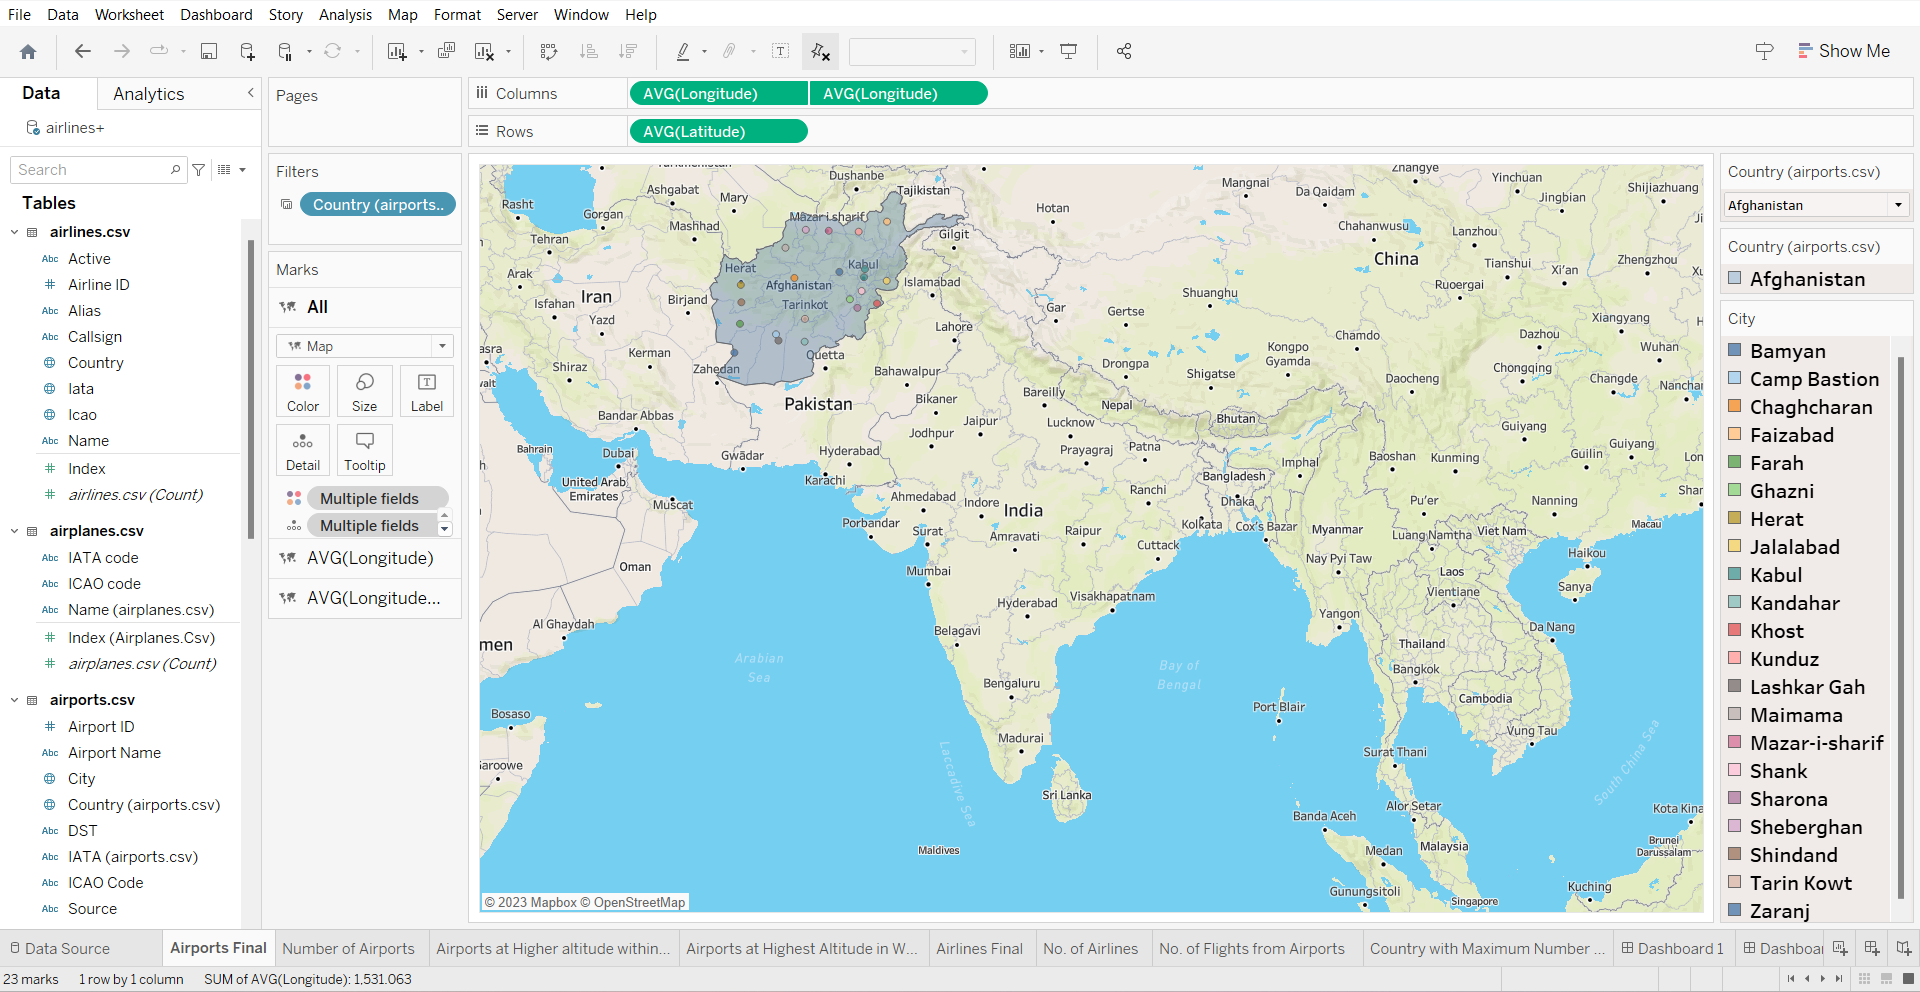

The page's visual inventory and layout, read from the dashboard file:
{"tool":"tableau","page":{"name":"Dashboard 1","canvas":[1000,1000],"units":"permille","ordinal":0},"visuals":[{"type":"worksheet","title":"Airports Final","mark":"Multipolygon","rows":["Latitude"],"cols":["Longitude","Longitude"],"box":[4.8,9.4,811.1,981.2]},{"type":"filter","title":"Airports Final","param":"[federated.07oa52r1fh44n819diecb16a7427].[none:Country (airports.csv):nk]","box":[815.9,9.4,179.2,124.6]},{"type":"legend","title":"Airports Final","param":"[federated.07oa52r1fh44n819diecb16a7427].[none:City:nk]","box":[815.9,134,179.2,685.1]},{"type":"worksheet","title":"Number of Airports","mark":"Automatic","box":[817.1,829.6,175.6,145.7]}]}

Visuals, with their boxes on the dashboard's canvas, which has no fixed pixel size, in thousandths of its width and height (x1, y1, x2, y2). These are canvas units, not pixel positions in the 1920x992 screenshot, which may show the page scaled, cropped or inside an application window:
"Airports Final" worksheet (Multipolygon marks): left=5, top=9, right=816, bottom=991
"Airports Final" filter: left=816, top=9, right=995, bottom=134
"Airports Final" legend: left=816, top=134, right=995, bottom=819
"Number of Airports" worksheet: left=817, top=830, right=993, bottom=975
